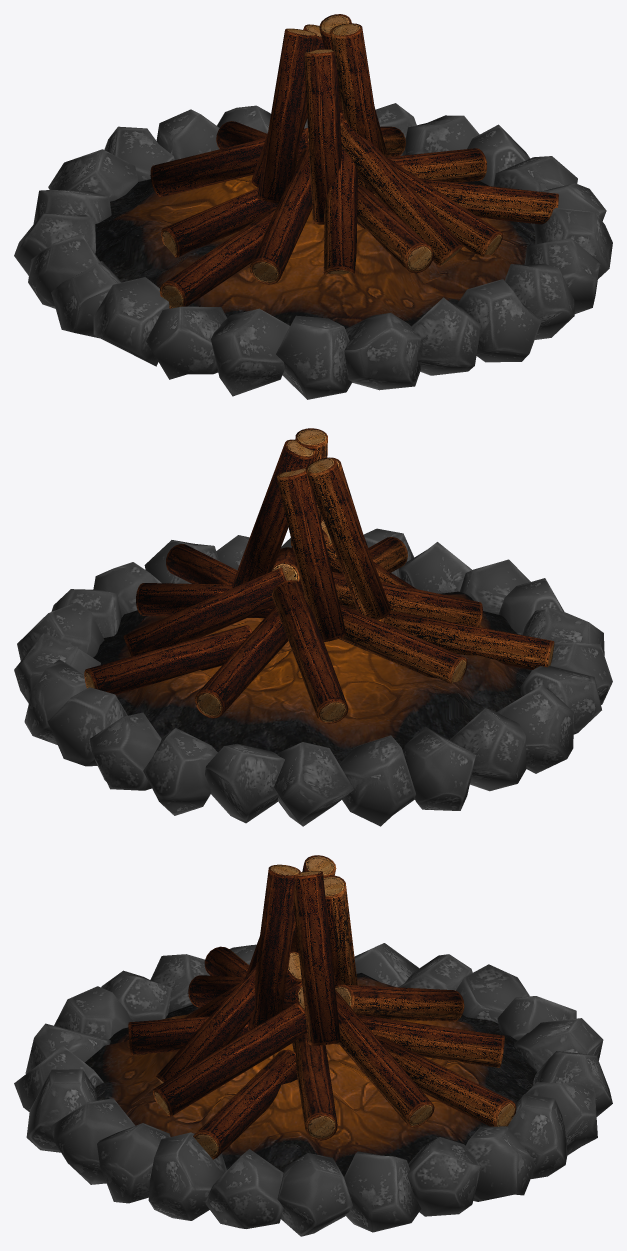
Rendered from SM_Campfire.FBX.
The picture shows the model from 3 angles, top to bottom: view 1: azimuth 30°, elevation 25°; view 2: azimuth 150°, elevation 25°; view 3: azimuth 270°, elevation 25°; orthographic projection.
Parts seen in each view (by area): view 1: SM_Campfire; view 2: SM_Campfire; view 3: SM_Campfire.
Boxes of the visible parts, x1,y1,x2,y2 form: SM_Campfire: (14, 14, 612, 399); SM_Campfire: (14, 428, 612, 826); SM_Campfire: (14, 855, 612, 1236).
Bounding box in the file's own units: 130 × 65.12 × 131.
